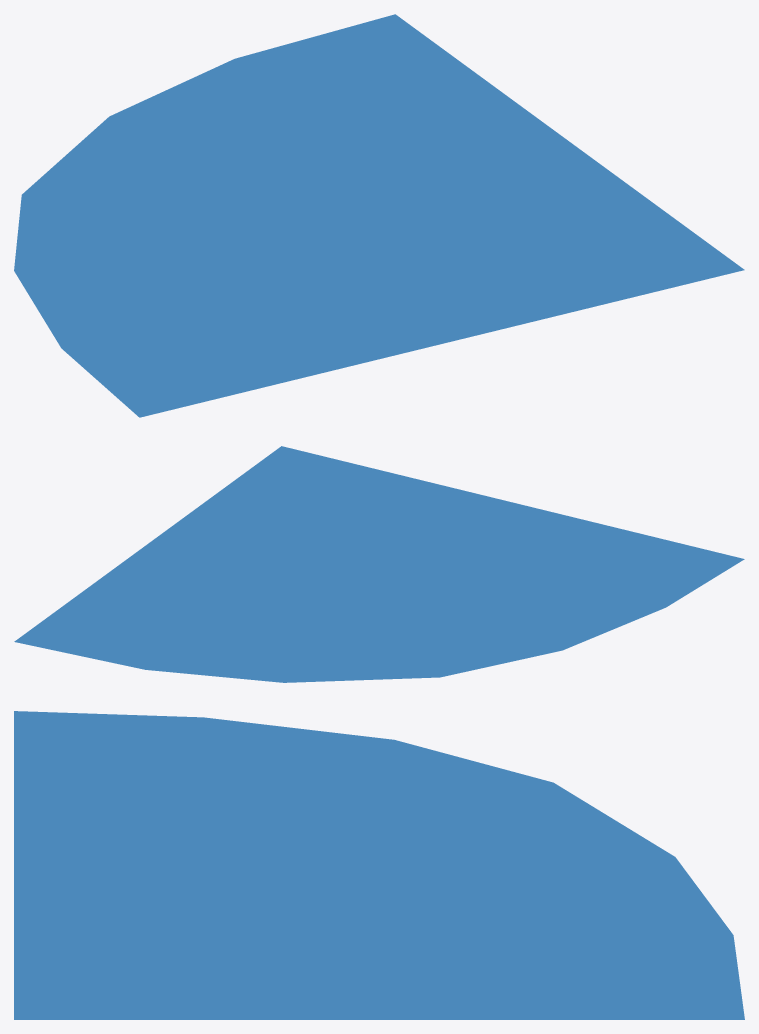
Rendered from Pavement_Cor_C.fbx.
The picture shows the model from 3 angles, top to bottom: view 1: azimuth 30°, elevation 25°; view 2: azimuth 150°, elevation 25°; view 3: azimuth 270°, elevation 25°; orthographic projection. The views are drawn at different scales.
Parts seen in each view (by area): view 1: Pavement_Cor_C; view 2: Pavement_Cor_C; view 3: Pavement_Cor_C.
Part boxes in pixels (box(x1,y1,x2,y2)): Pavement_Cor_C: box(14, 14, 744, 417); Pavement_Cor_C: box(14, 446, 744, 682); Pavement_Cor_C: box(14, 711, 744, 1019).
Bounding box in the file's own units: 900 × 0.000539 × 900.
